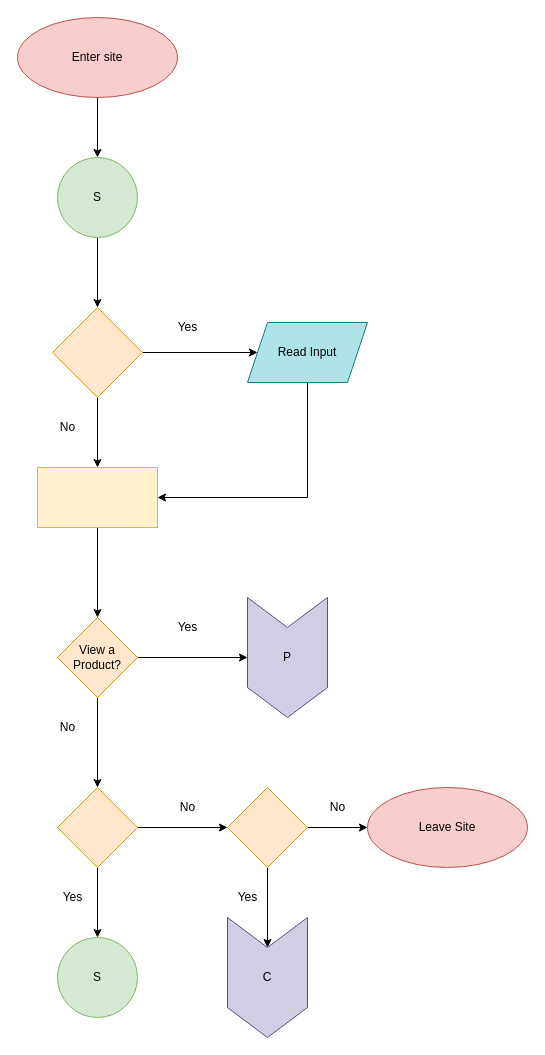
Image size: 545x1055. Some labels were removed from this diagram. The centre of each missing label's shape, as x and y in pixels:
"Check out?" belongs at pixel 267 827.
"Continue Shopping?" belongs at pixel 97 827.
"Looking Over Products" belongs at pixel 97 497.
"Search for a product?" belongs at pixel 97 352.
